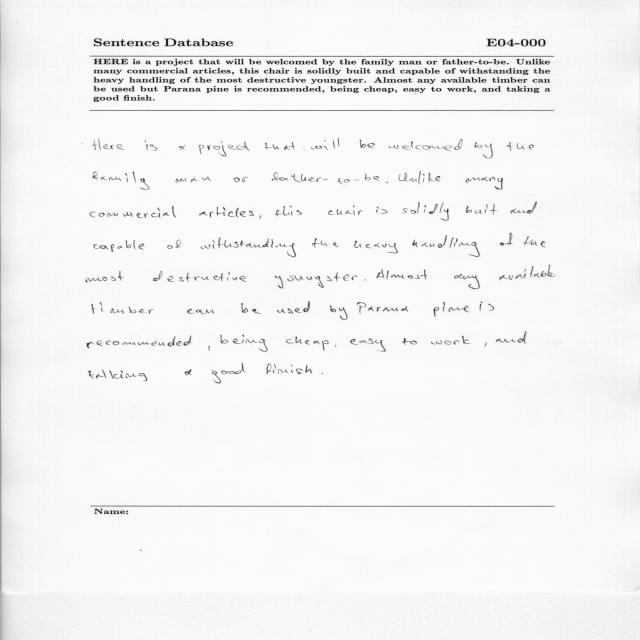word: (200, 237, 296, 257), (412, 235, 480, 257), (275, 272, 358, 289), (87, 336, 191, 349), (272, 172, 380, 184), (93, 171, 149, 190), (90, 206, 176, 218), (153, 271, 246, 282), (402, 202, 449, 221), (389, 139, 463, 151), (221, 334, 268, 352), (500, 265, 556, 280), (199, 142, 249, 157), (92, 302, 154, 314), (211, 363, 245, 384), (89, 370, 147, 381), (199, 207, 254, 218), (286, 337, 329, 351), (94, 240, 144, 252), (354, 241, 398, 254), (377, 269, 428, 280), (357, 303, 408, 314), (433, 302, 470, 317), (399, 171, 441, 184), (266, 364, 312, 375), (466, 177, 503, 190), (350, 339, 386, 352), (277, 301, 310, 314), (86, 271, 124, 282), (454, 274, 480, 289), (496, 331, 526, 344), (431, 336, 471, 345), (94, 139, 125, 150), (466, 204, 497, 215), (328, 205, 362, 215), (474, 142, 493, 159), (311, 139, 340, 150), (275, 206, 302, 217), (510, 202, 537, 213), (312, 238, 339, 248), (330, 305, 348, 320), (523, 237, 546, 248), (507, 142, 534, 151), (264, 142, 294, 150), (241, 303, 261, 314), (175, 177, 211, 183), (500, 233, 513, 245), (168, 239, 182, 249), (480, 301, 494, 311), (187, 309, 214, 314), (145, 141, 158, 151), (360, 140, 375, 148), (402, 338, 417, 345), (376, 207, 387, 214), (233, 177, 248, 182), (185, 369, 191, 375), (179, 145, 186, 150), (484, 342, 487, 347), (208, 346, 210, 351), (259, 215, 261, 219), (386, 182, 388, 184), (335, 345, 336, 347), (322, 373, 324, 374), (365, 280, 367, 280)
